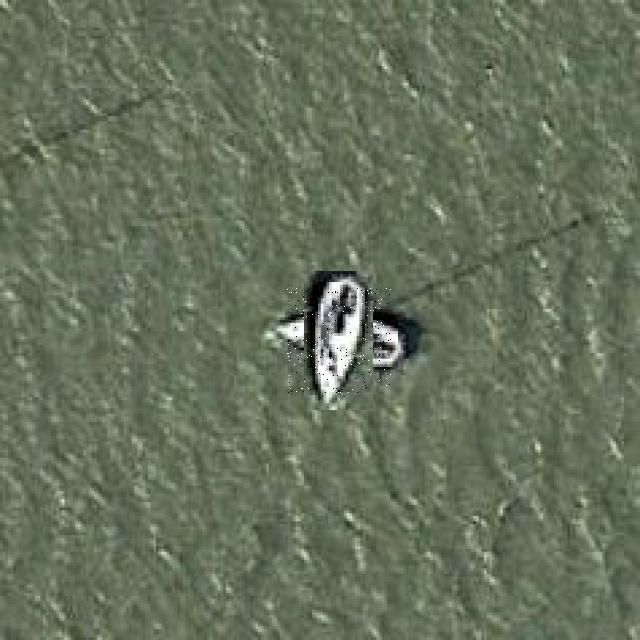boat: (287, 288, 391, 393)
